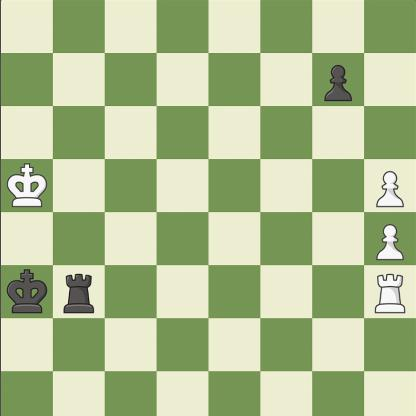Black Castle: (58, 268, 102, 315)
Black King: (4, 268, 49, 316)
Black Pawn: (314, 52, 360, 106)
White Castle: (369, 267, 411, 317)
White King: (4, 161, 49, 209)
White Pawn: (369, 164, 407, 210), (370, 217, 408, 263)
